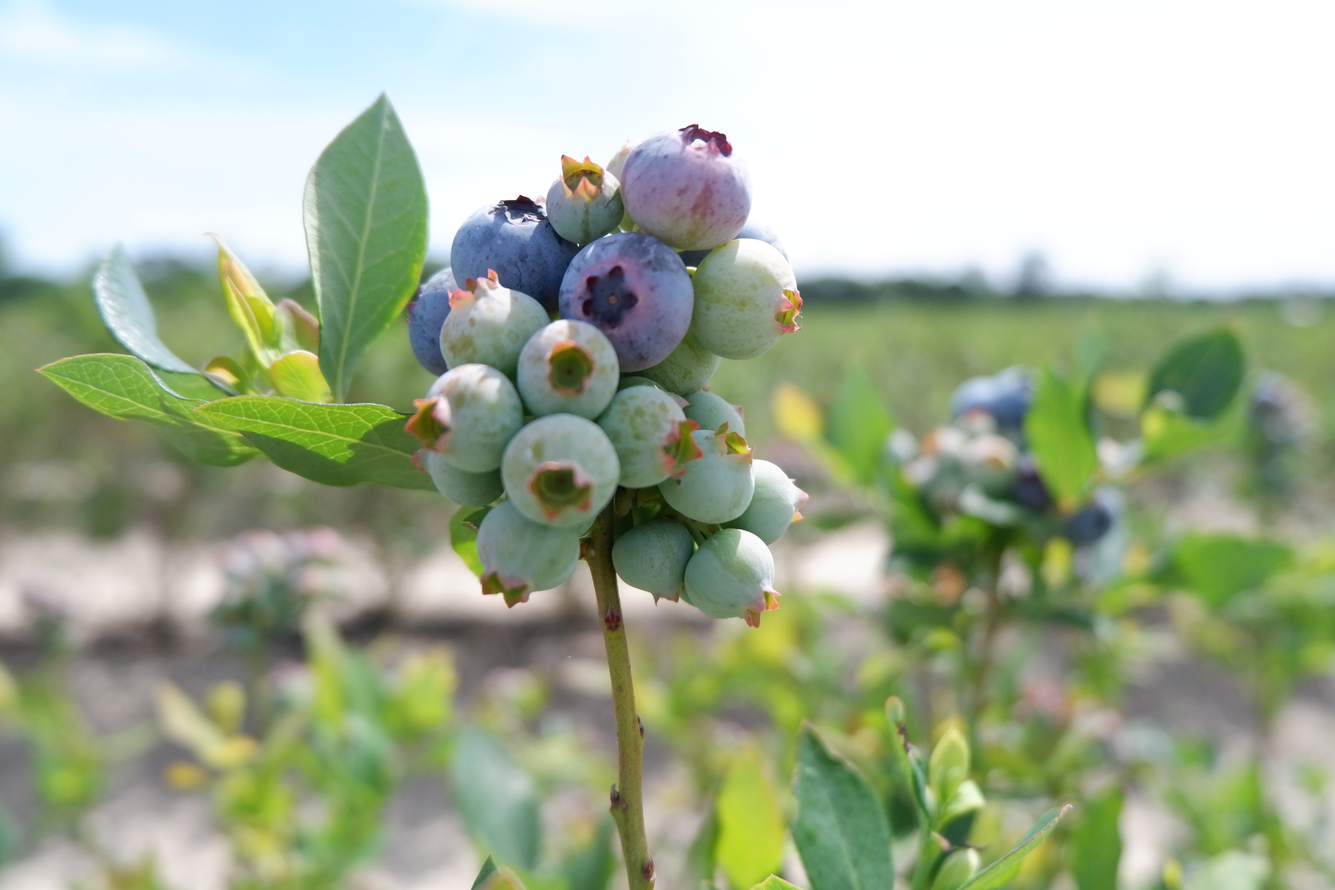Immature: (622, 127, 747, 248), (502, 417, 616, 530), (694, 240, 800, 357), (408, 366, 522, 467), (440, 276, 547, 375), (478, 504, 577, 600), (518, 324, 617, 418), (602, 386, 690, 483), (687, 531, 778, 623), (663, 428, 753, 521), (548, 156, 623, 241), (615, 518, 691, 599), (727, 463, 804, 541), (630, 330, 720, 395), (412, 449, 502, 506), (686, 393, 745, 435), (605, 141, 647, 187)
Mature: (561, 234, 690, 370), (452, 199, 575, 311), (675, 219, 788, 267), (409, 271, 460, 374)
